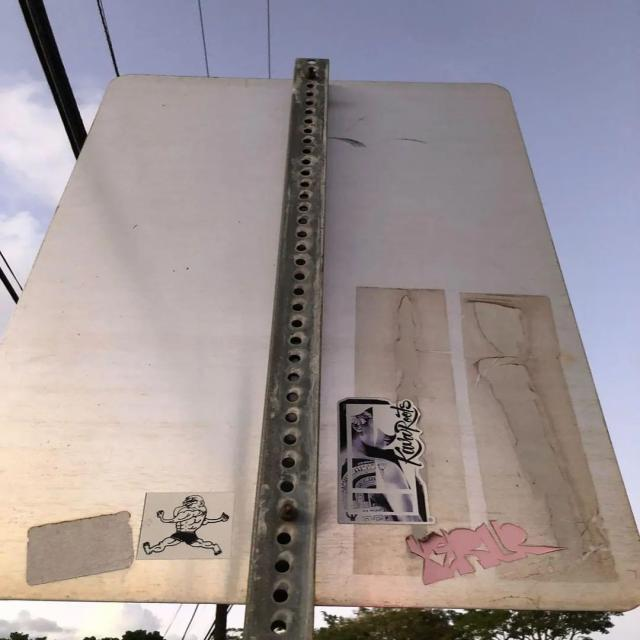nonspitting: (335, 396, 435, 526), (405, 518, 569, 584)
spitting: (140, 496, 228, 557)
